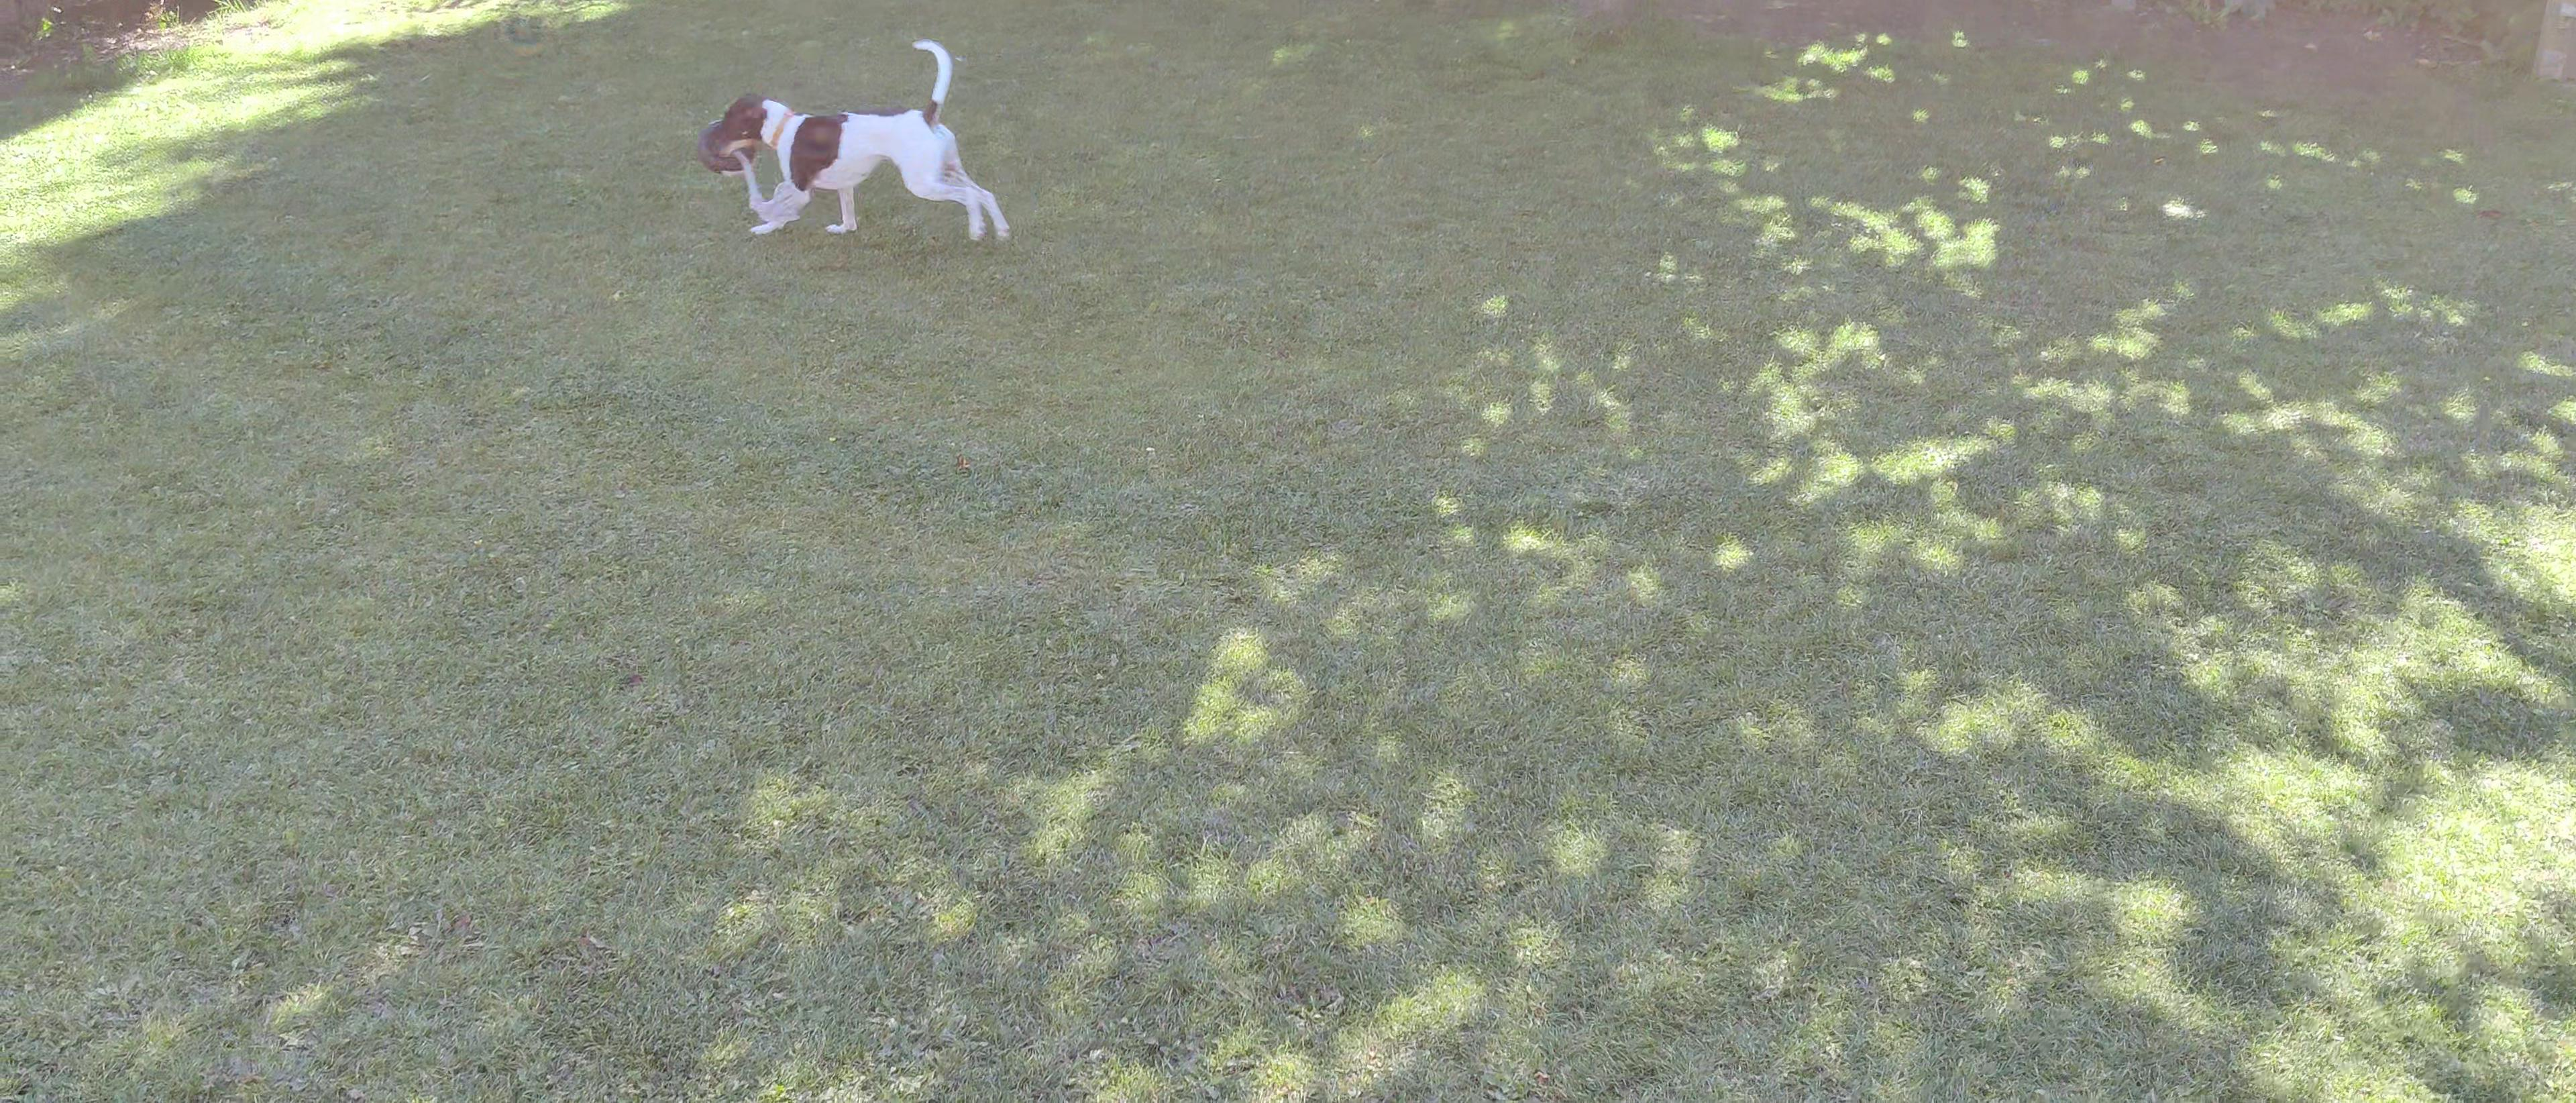Dog: (710, 31, 1023, 243)
